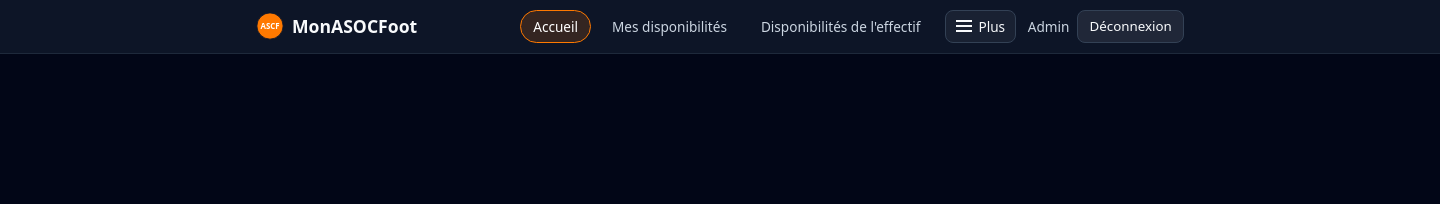
TopBar — utilisateur admin (tabsConfig réel) › shows the "Plus" button with the 3 admin tabs, none of the 3 primary tabs
Click the button with aria-label "Plus d'options de navigation" at [981, 26], box 946,10 -> 1016,43
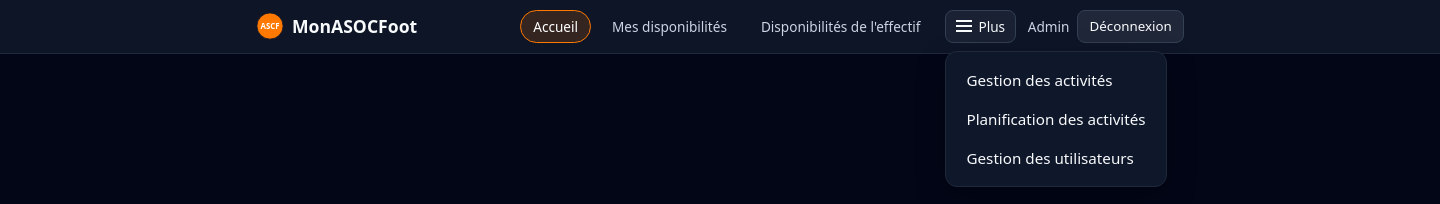
Expected: the menu item "Gestion des activités" is shown, 966,70 -> 1113,90
Expected: the menu item "Planification des activités" is shown, 966,109 -> 1146,129
Expected: the menu item "Gestion des utilisateurs" is shown, 966,148 -> 1134,168
